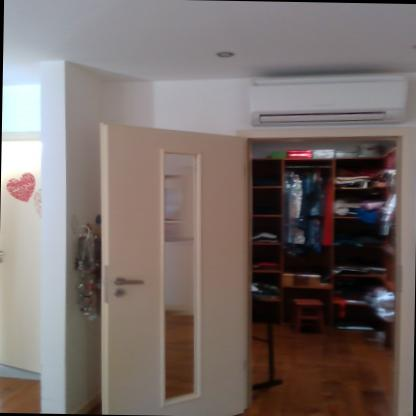open: (91, 116, 415, 415)
